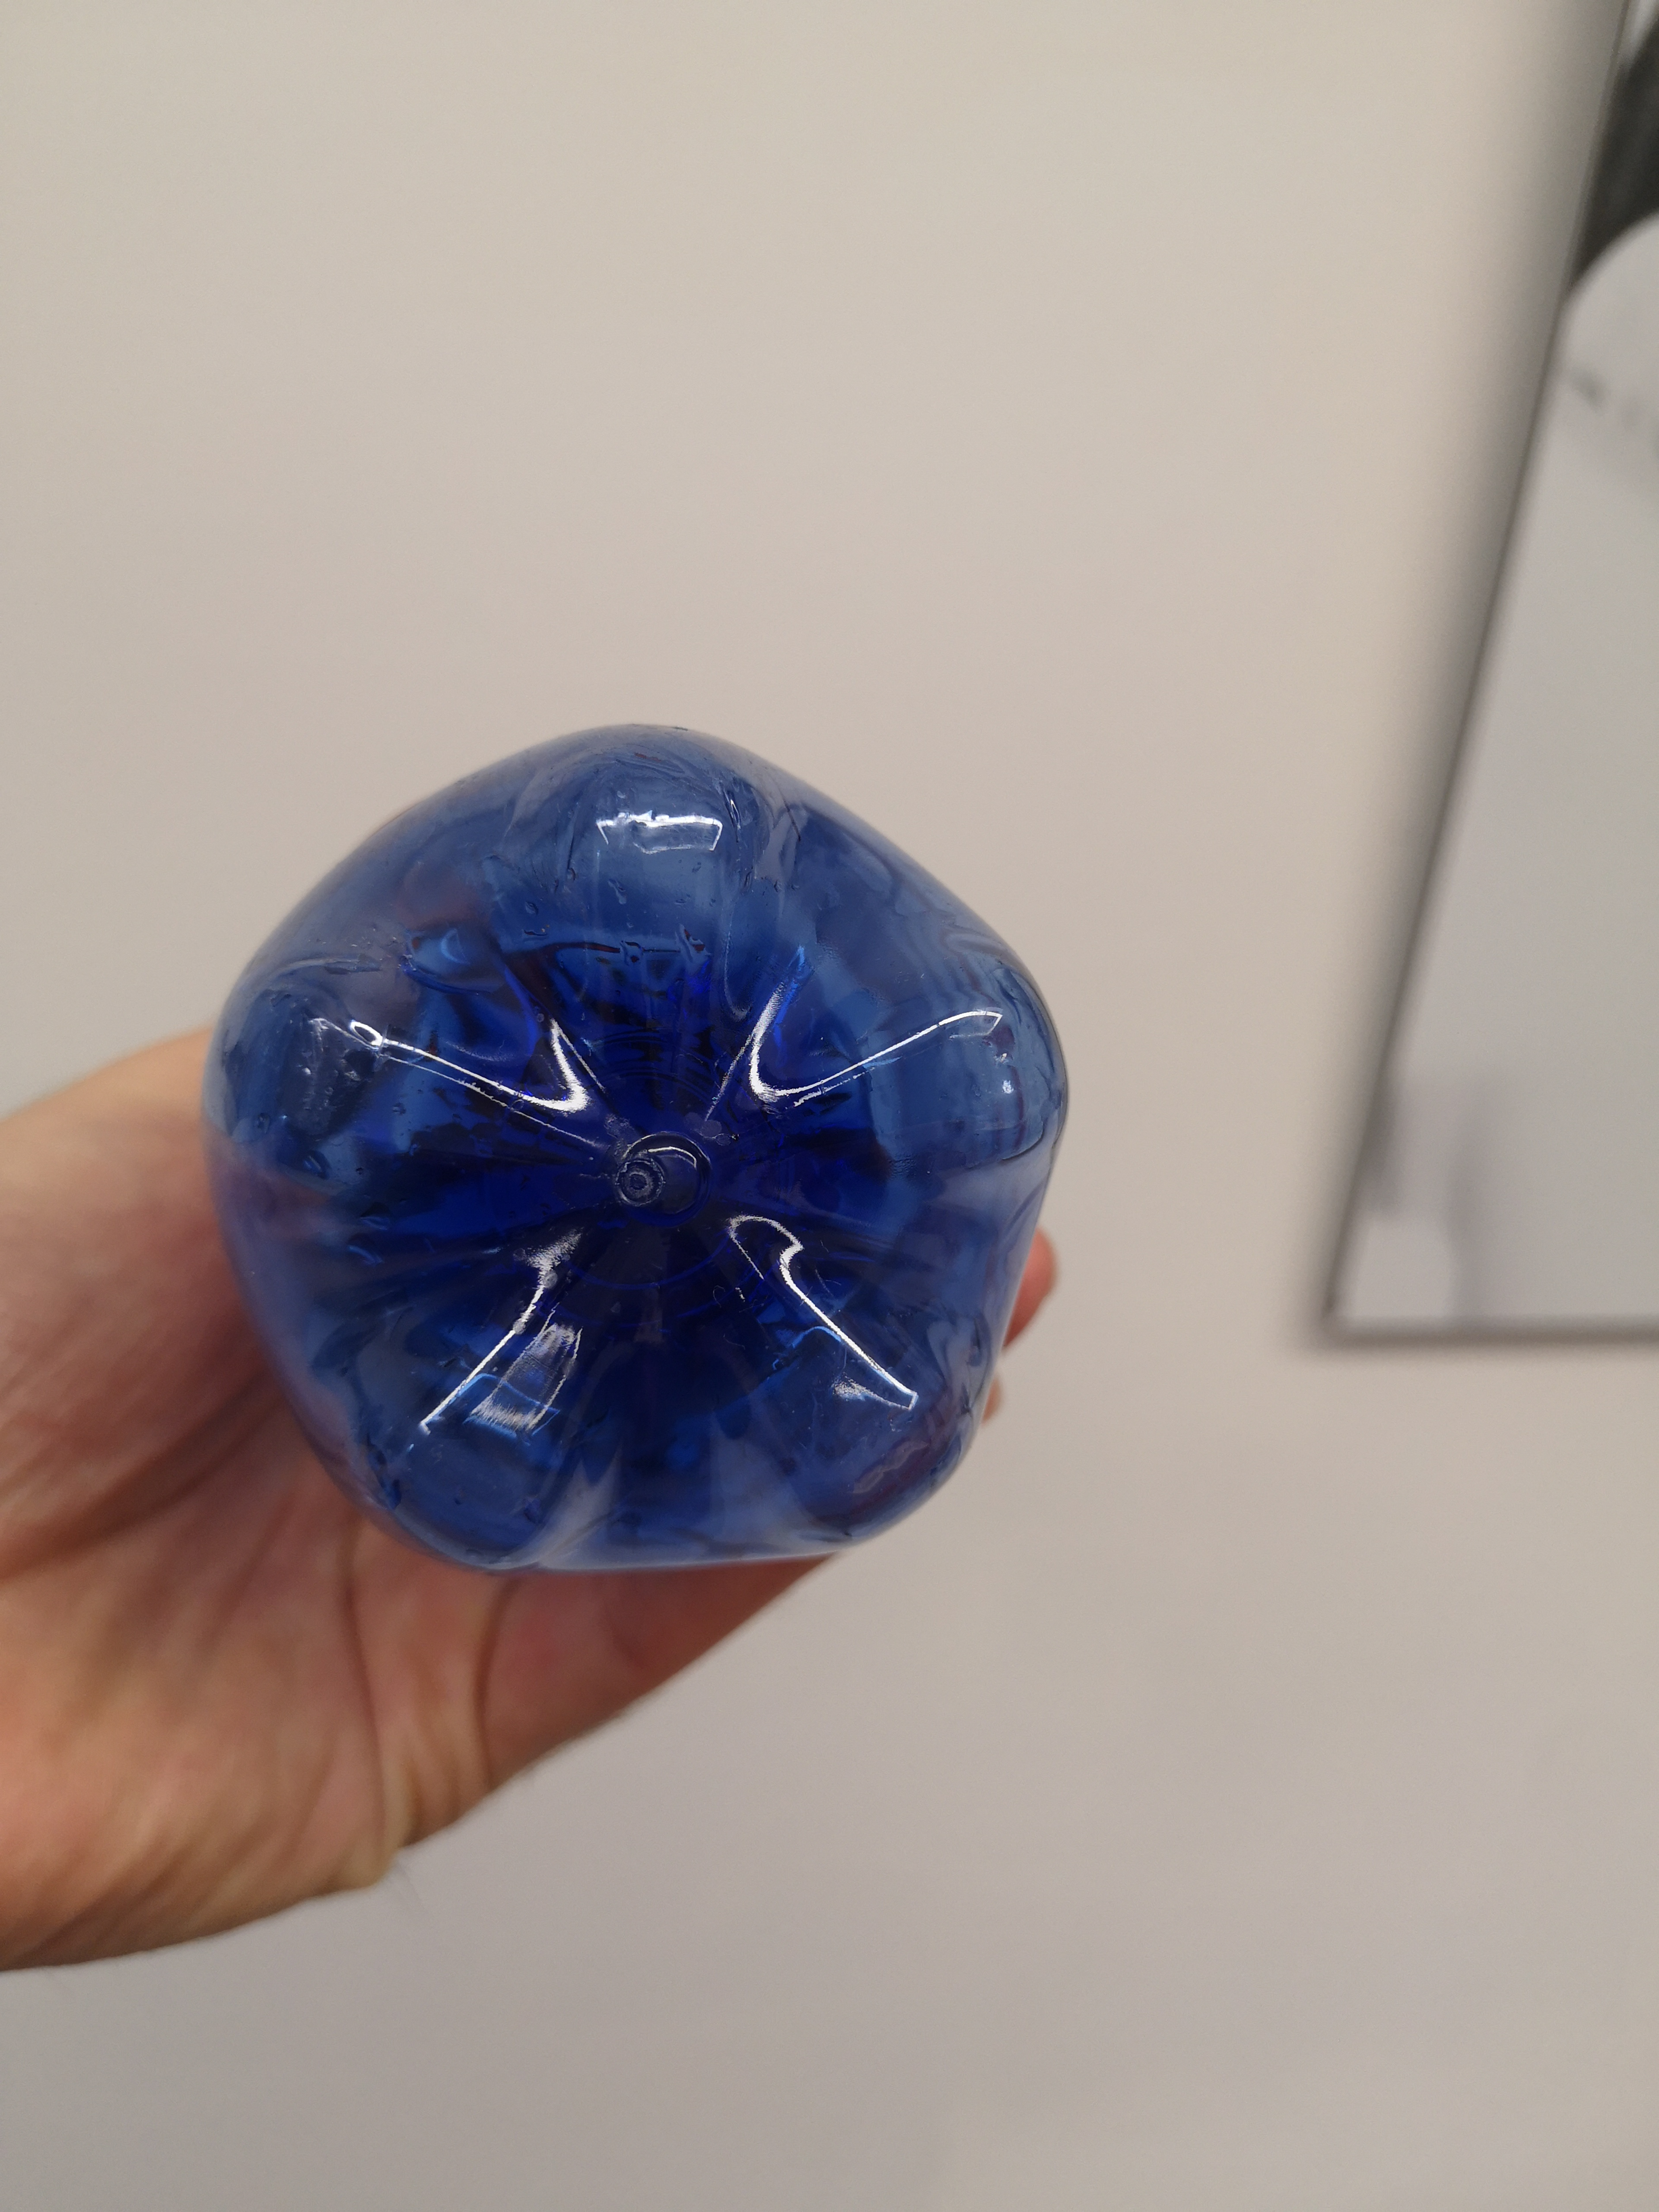plastic_bottle: (193, 690, 1087, 1623)
